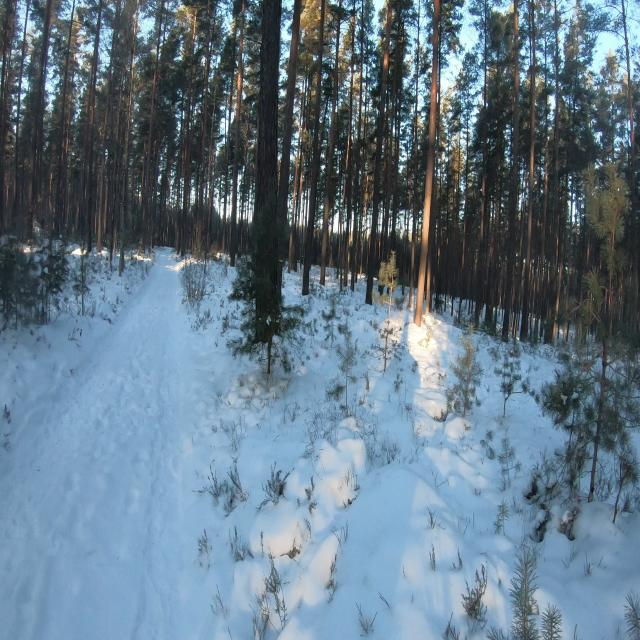bush: (541, 163, 640, 509), (0, 236, 68, 328), (448, 324, 483, 417), (509, 551, 539, 640), (378, 251, 398, 372), (326, 324, 356, 399), (180, 260, 206, 308)
trees: (542, 165, 639, 501), (582, 164, 628, 501), (252, 0, 283, 371), (415, 0, 440, 326), (366, 0, 392, 304), (302, 0, 326, 295), (96, 0, 120, 250), (320, 0, 341, 285), (27, 0, 52, 239), (472, 0, 490, 324), (502, 0, 519, 341), (118, 0, 139, 276), (520, 0, 536, 341), (278, 0, 301, 227), (142, 0, 164, 217), (488, 551, 539, 639), (180, 9, 197, 256), (230, 0, 244, 266), (0, 0, 16, 228), (409, 0, 420, 309), (343, 17, 355, 287), (448, 324, 483, 416), (621, 0, 635, 213), (326, 322, 357, 416), (58, 0, 75, 163), (510, 551, 539, 640), (495, 342, 528, 417), (613, 430, 639, 524), (537, 104, 548, 313), (379, 105, 393, 261), (552, 0, 560, 217), (541, 604, 562, 639), (58, 172, 62, 201), (389, 84, 395, 103), (556, 289, 559, 313)
